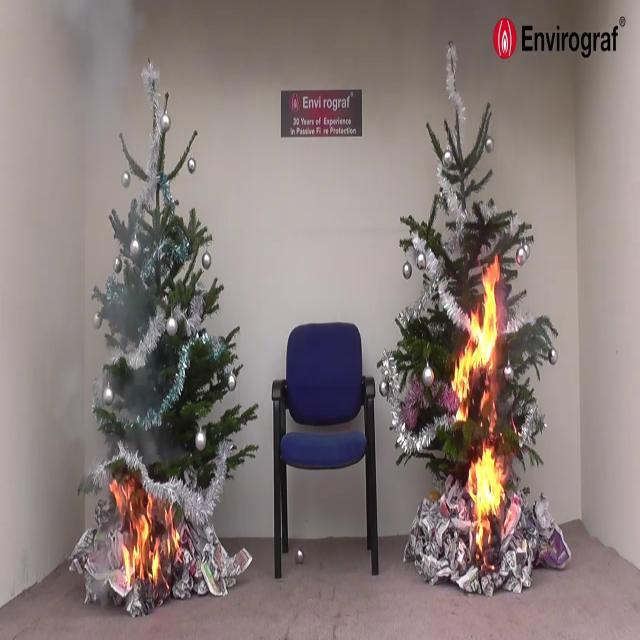Fire: (448, 260, 514, 547), (108, 475, 178, 593)
